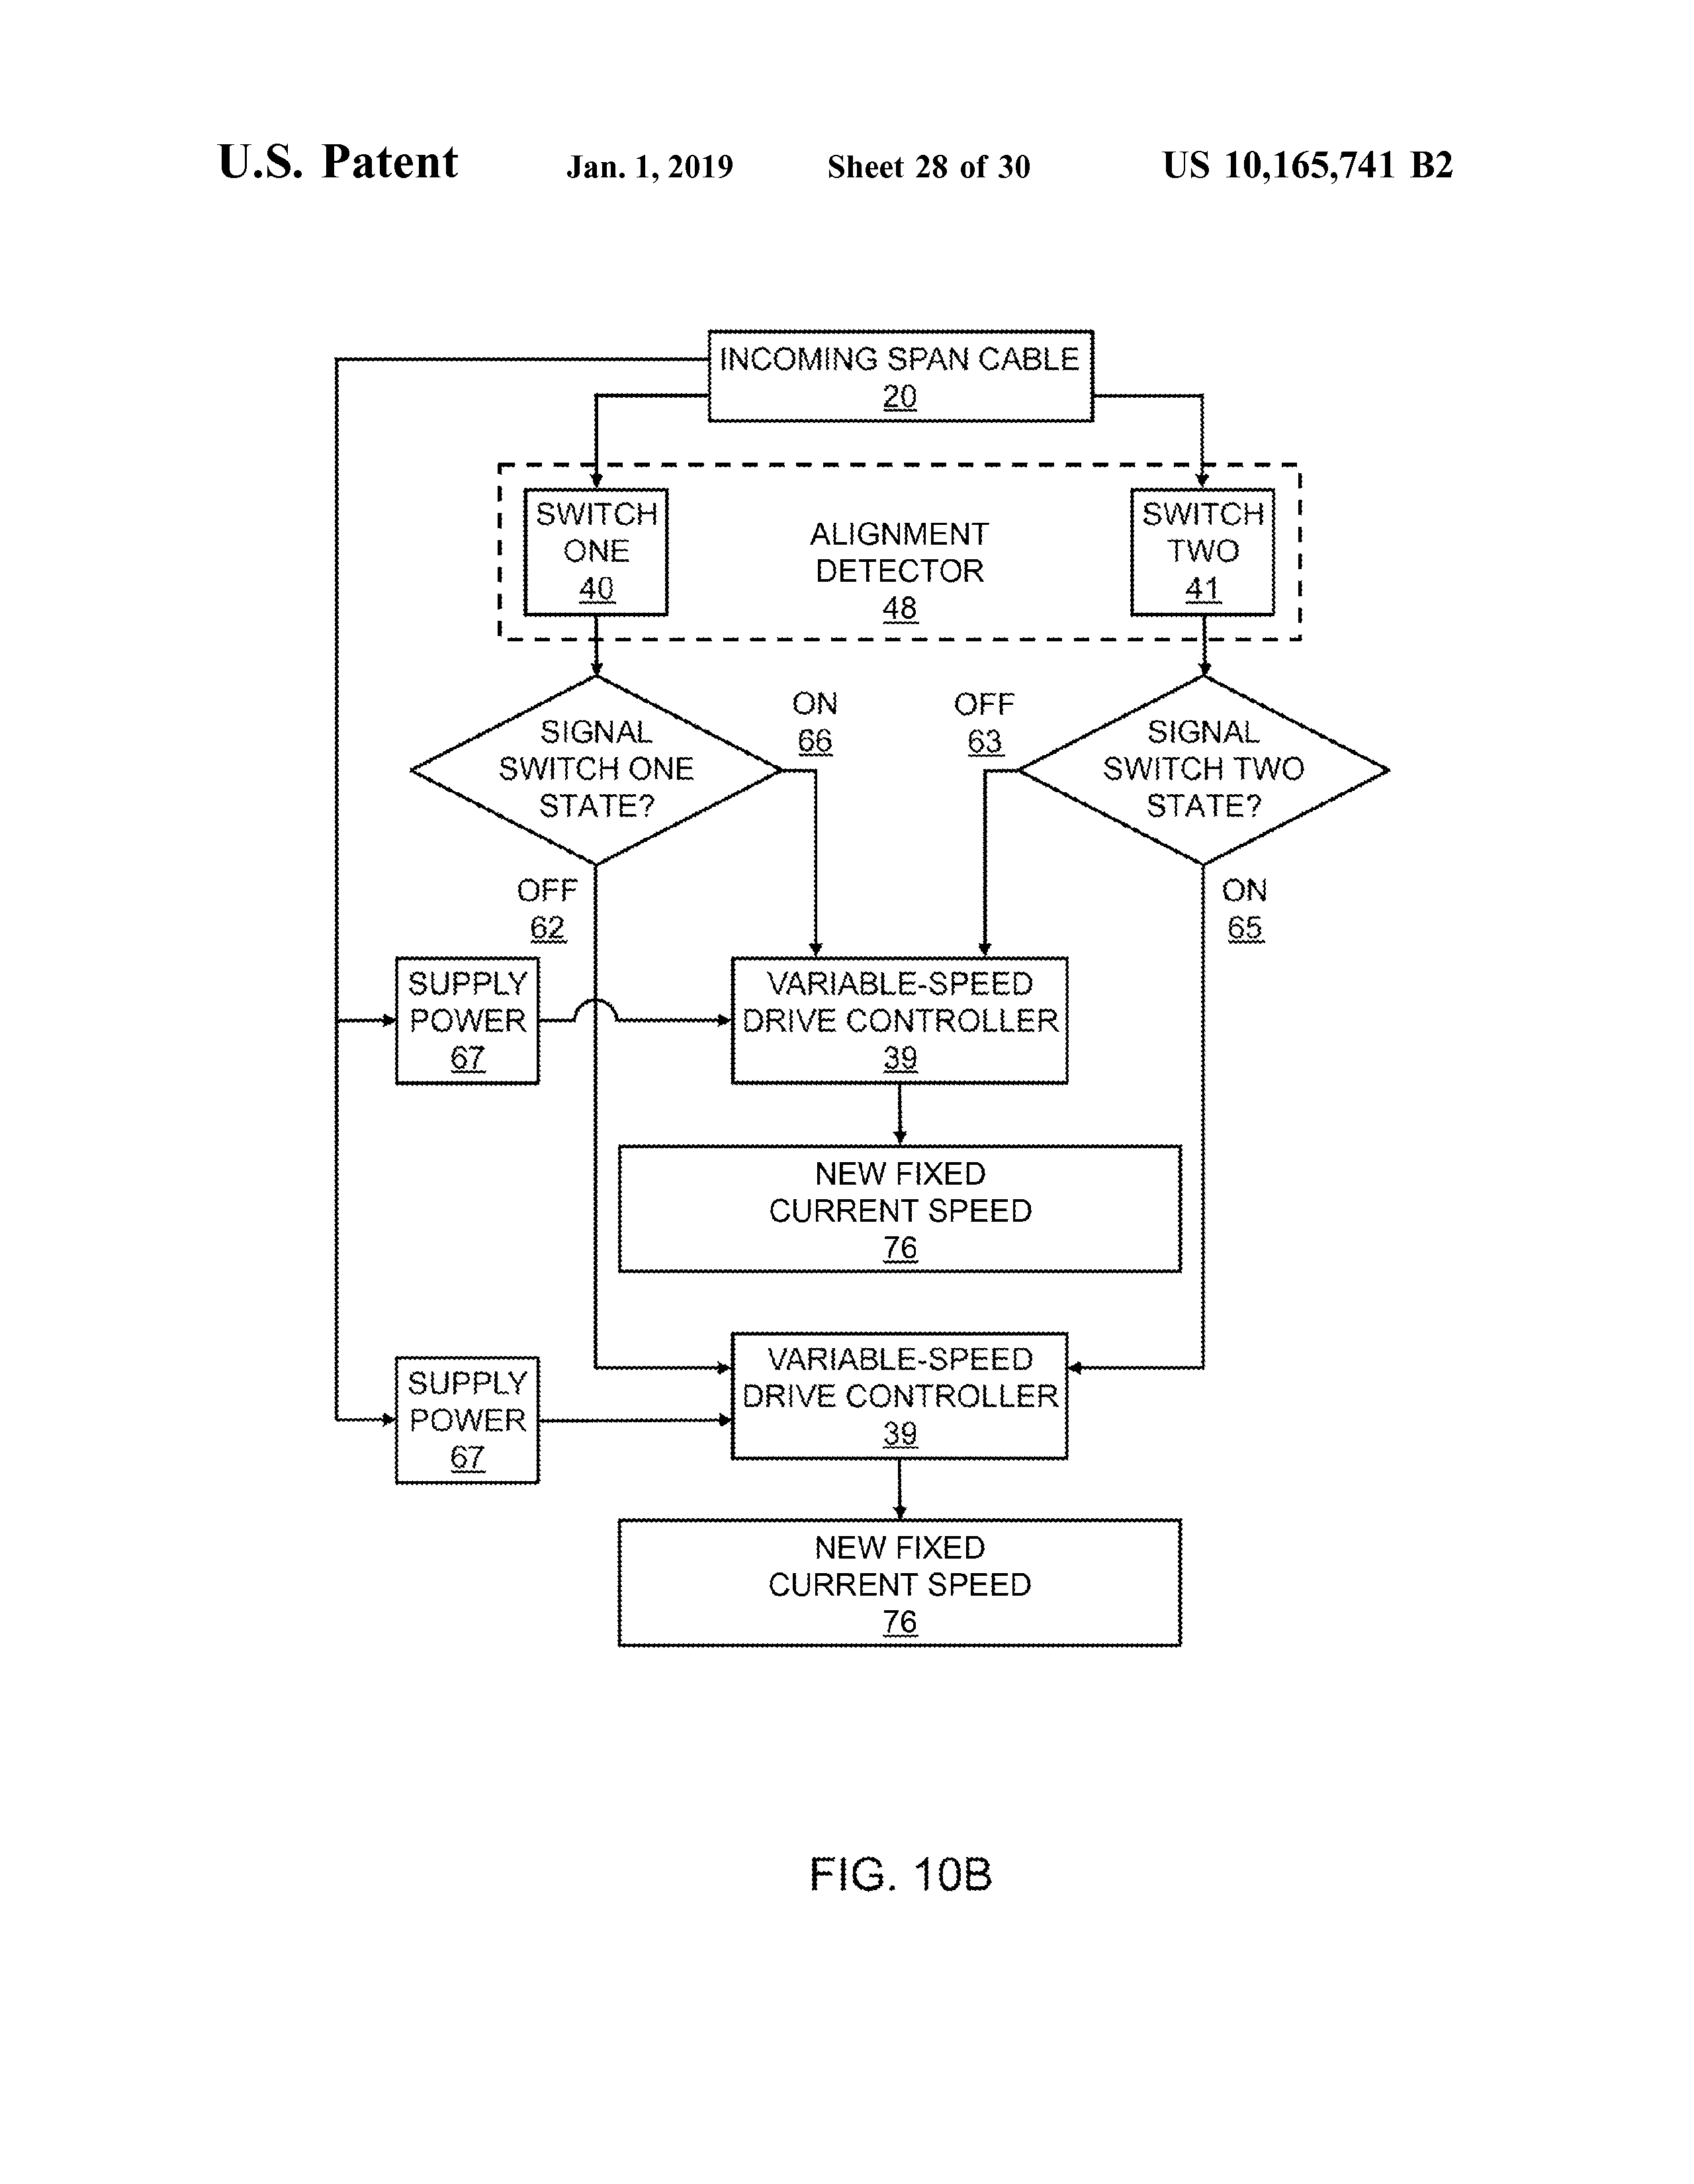patent image: (322, 314, 1411, 1917)
